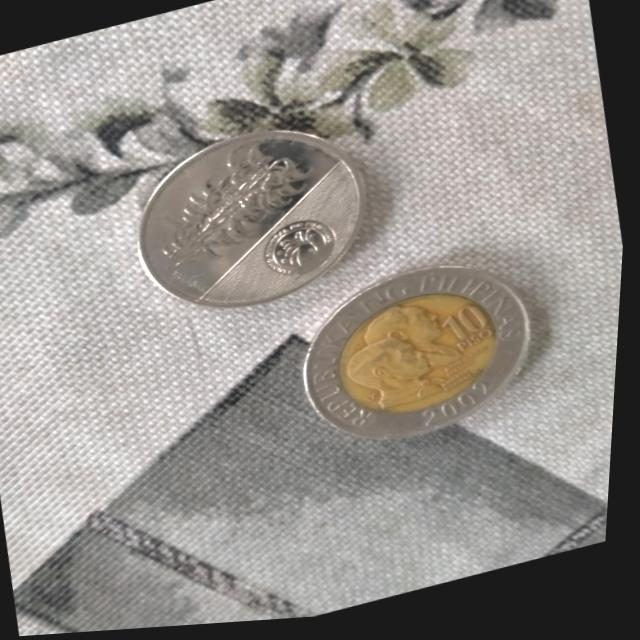10_Old_Front: (435, 294, 509, 372)
5_New_Back: (156, 134, 323, 281)
